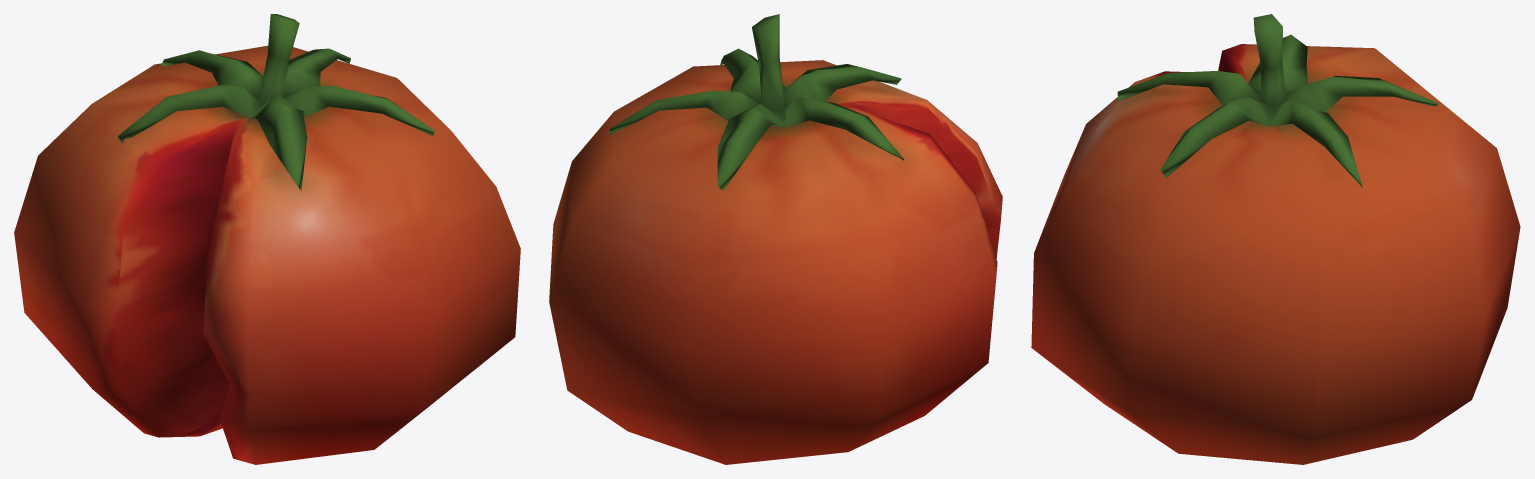
The model's file is Food_Tomato.fbx.
3 views of the same model, side by side, from view 1: azimuth 30°, elevation 25°; view 2: azimuth 150°, elevation 25°; view 3: azimuth 270°, elevation 25° (orthographic).
Visible parts, largest first — view 1: Food_Tomato; view 2: Food_Tomato; view 3: Food_Tomato.
Boxes of the visible parts, left/top/right/bottom form: Food_Tomato: left=14, top=14, right=520, bottom=464; Food_Tomato: left=549, top=14, right=1002, bottom=464; Food_Tomato: left=1031, top=14, right=1520, bottom=464.
Size of the model in its own units: 0.3153 by 0.2982 by 0.3272.
